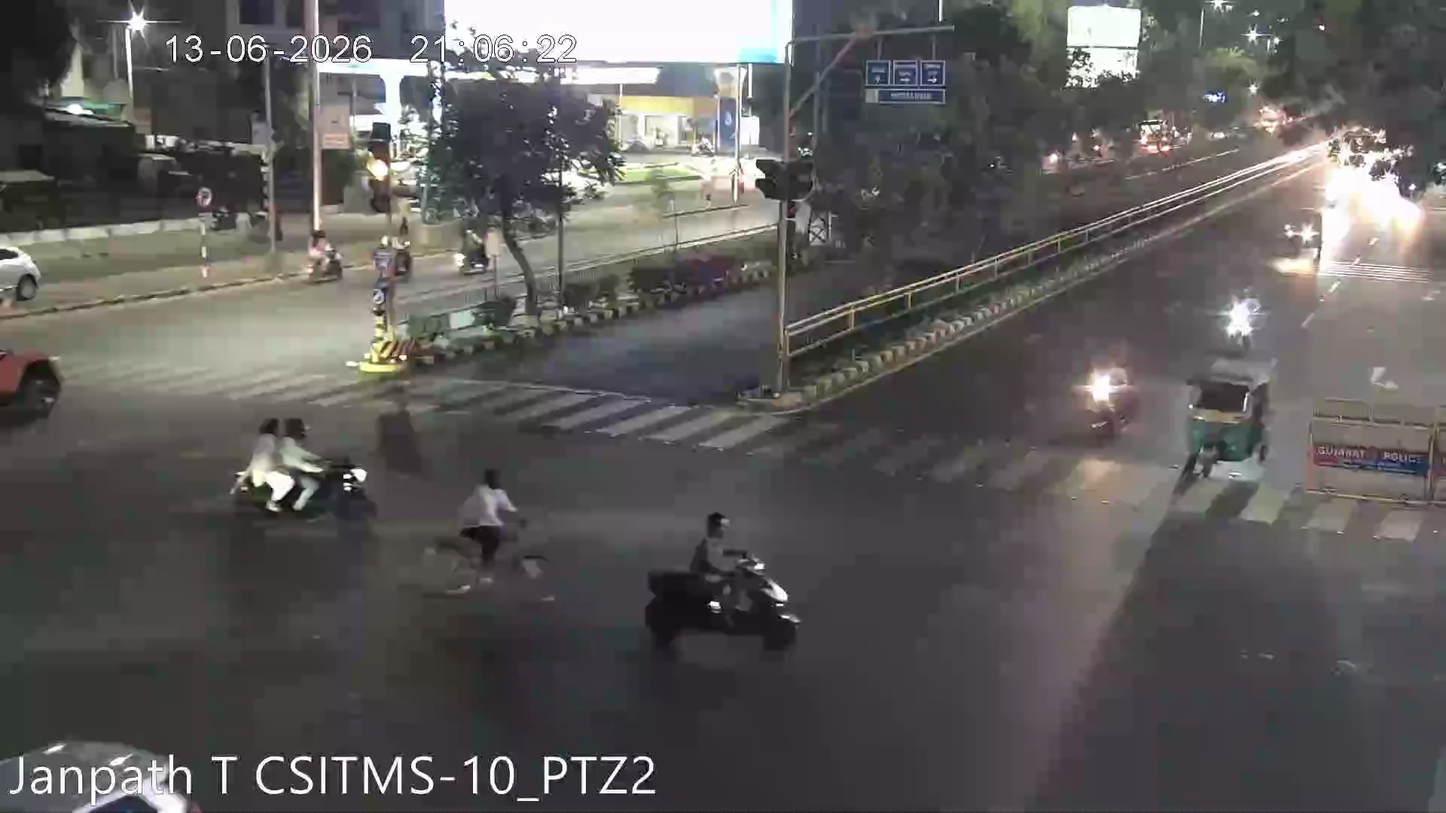auto_rickshaw: (1176, 358, 1276, 484), (1278, 204, 1327, 265)
car: (0, 325, 69, 427), (0, 232, 45, 314)
pedestrian: (446, 461, 528, 583)
two_wheeler: (632, 501, 810, 672), (219, 408, 379, 524), (1067, 337, 1143, 449), (1213, 277, 1266, 355), (367, 232, 419, 285), (301, 226, 346, 287), (451, 226, 498, 277)
